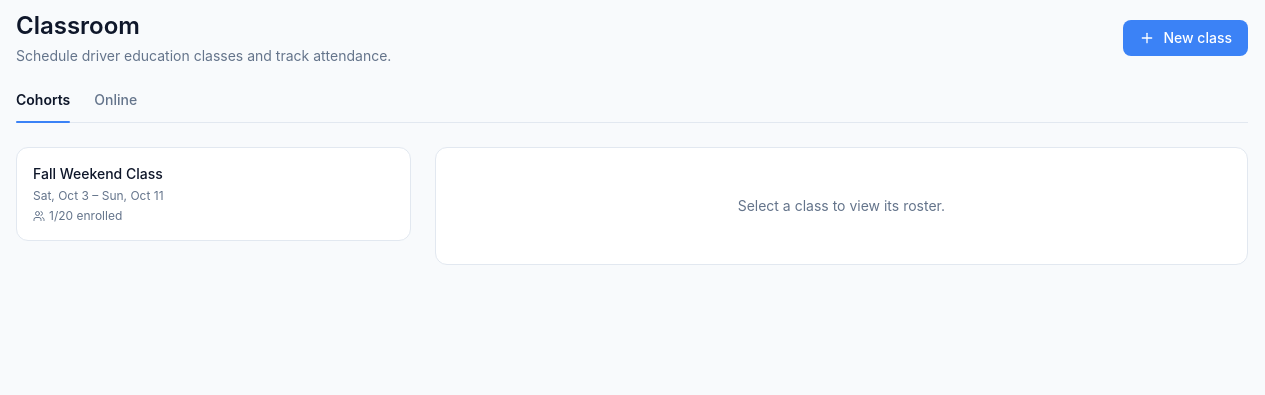
Test: Classroom page - roster › shows a checkbox grid with the student's missing-days badge
Click the text "Fall Weekend Class".
click(98, 174)  # box [33,164,163,184]
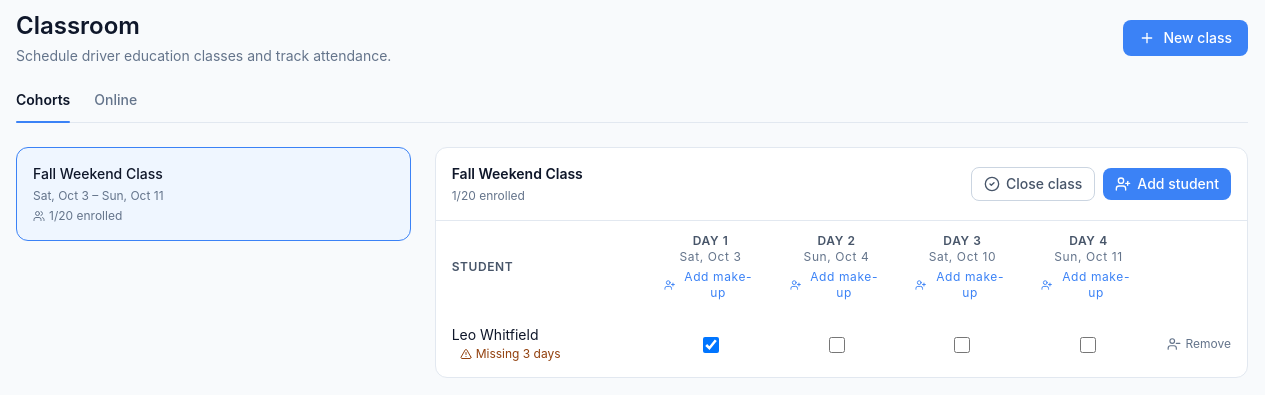
Result: the text "Leo Whitfield" is shown at [452,326,538,343]
Result: the text "Missing 3 days" is shown at [460,346,561,362]
Result: the checkbox named "leo whitfield present day 1" is checked at [702,337,718,353]
